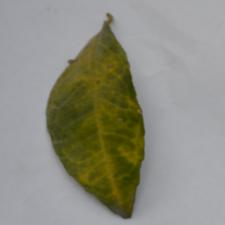Greening: (51, 43, 147, 186)
